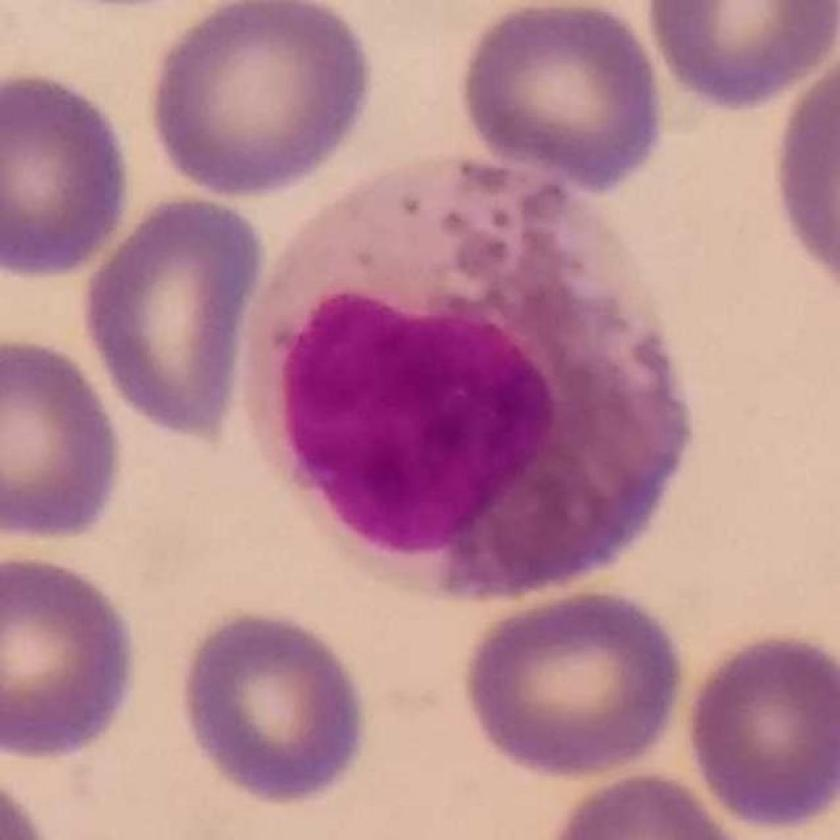eosinophil: (247, 148, 697, 609)
